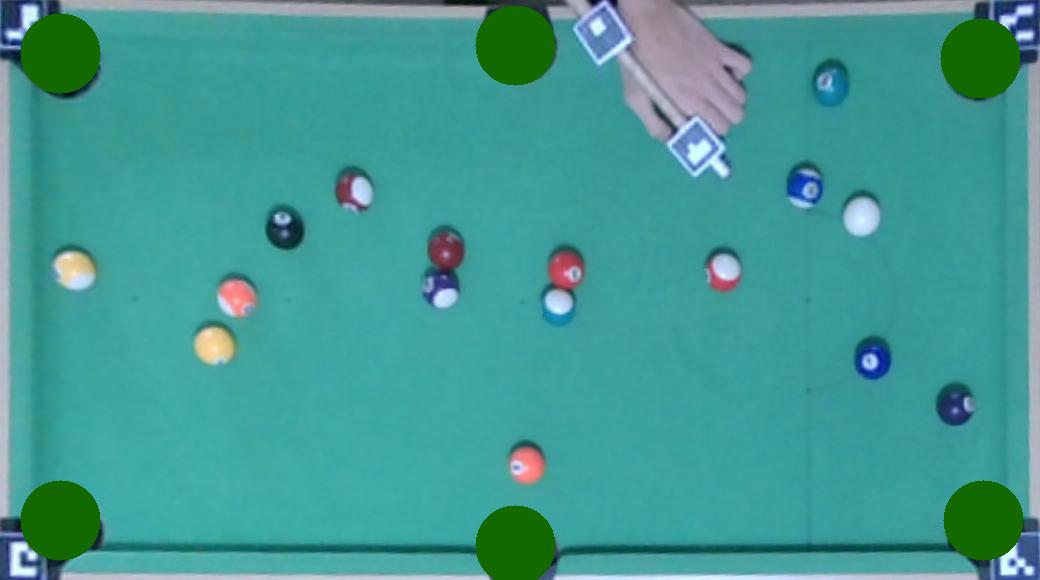Ball: (50, 250, 98, 290), (811, 60, 851, 106), (192, 325, 236, 365), (262, 206, 303, 248), (785, 166, 825, 208), (215, 279, 258, 317), (425, 228, 465, 268), (421, 268, 461, 308), (336, 170, 374, 212), (841, 197, 880, 237), (704, 252, 742, 292), (936, 386, 976, 424), (546, 250, 586, 288), (507, 446, 545, 484), (854, 342, 893, 379), (541, 288, 575, 326)
